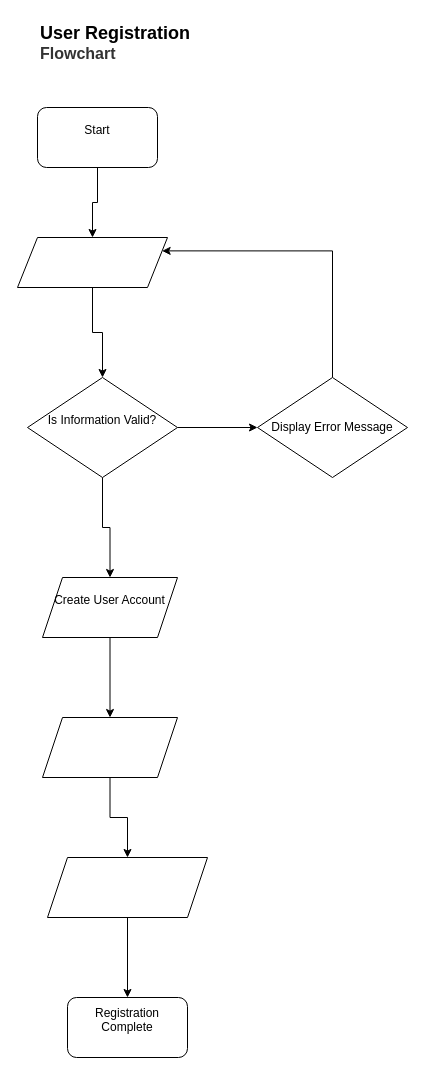
Some shapes in this 425 by 1080 pixel diagram are drawn without their labels. Each missing label, with the box of its shape:
Input User Information: (16, 236, 168, 288)
Send Confirmation Email: (46, 856, 208, 918)
Store User Data in Database: (42, 716, 178, 778)
